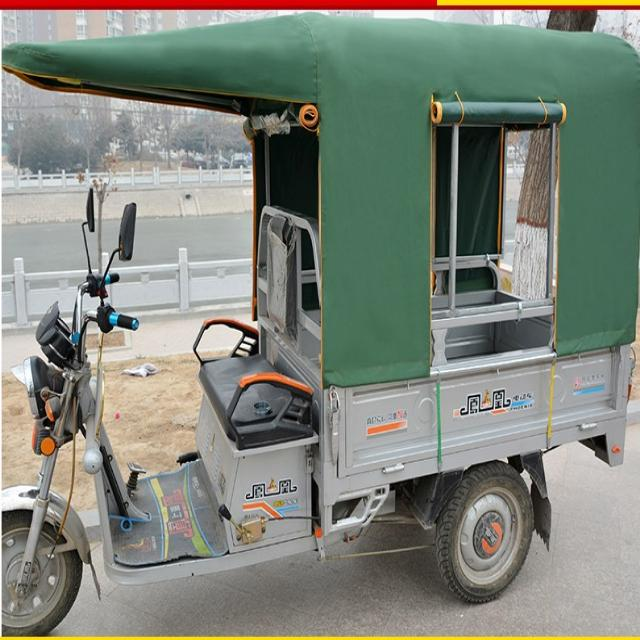tricycle: (0, 6, 636, 639)
